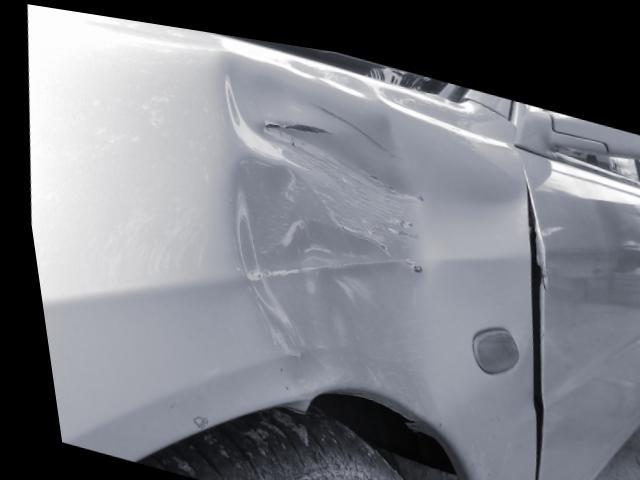dent: (216, 40, 518, 412)
